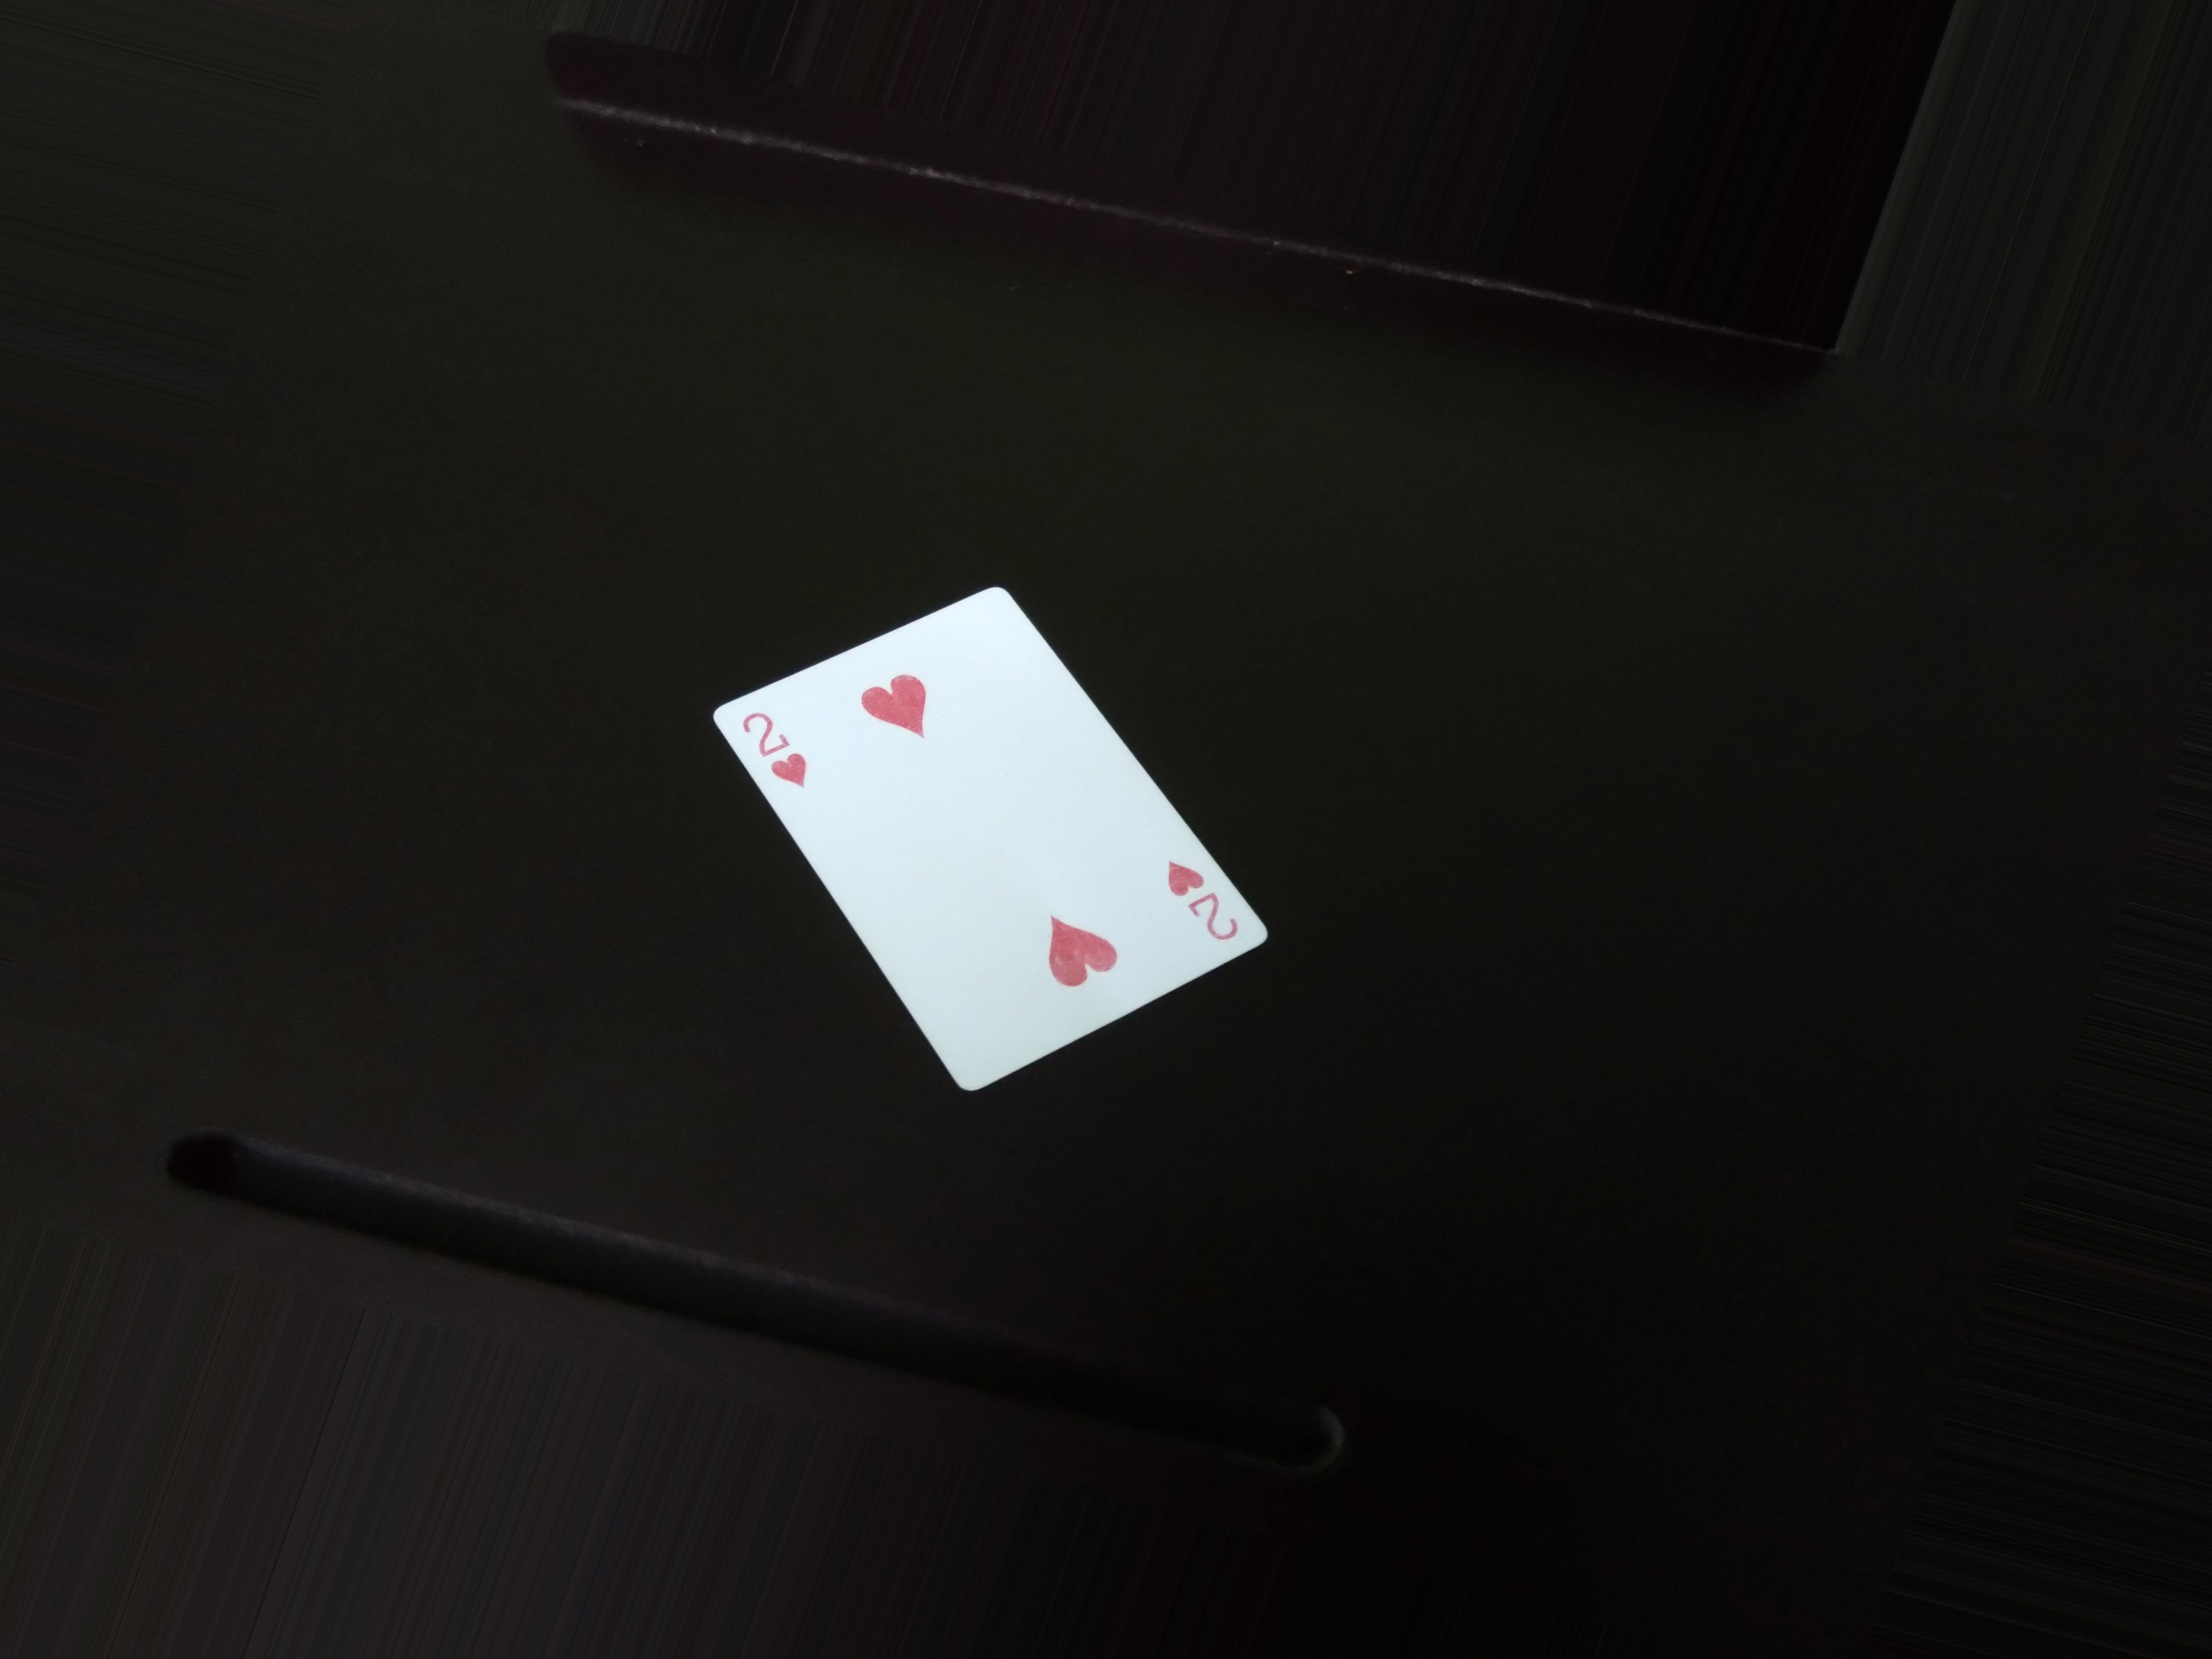2H: (725, 709, 843, 789)
